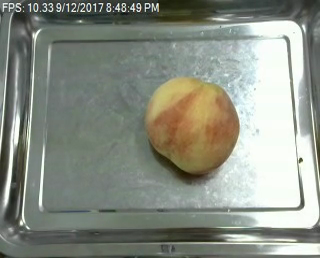Peach: (145, 77, 240, 174)
